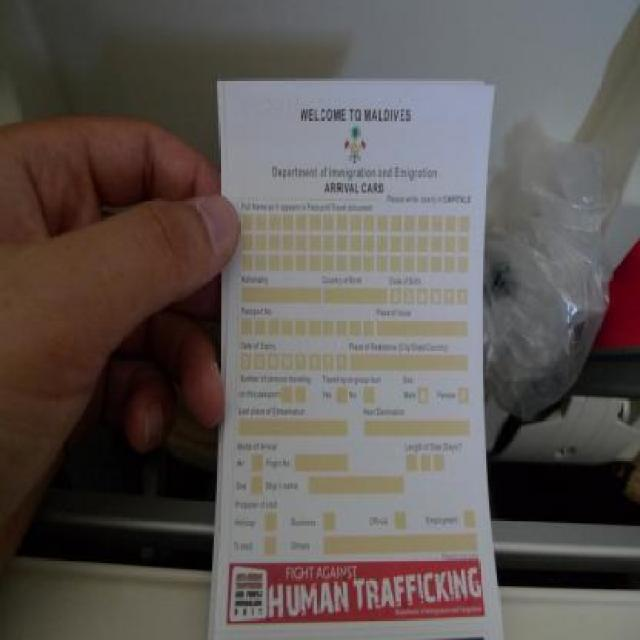plastic bag: (482, 115, 616, 418)
